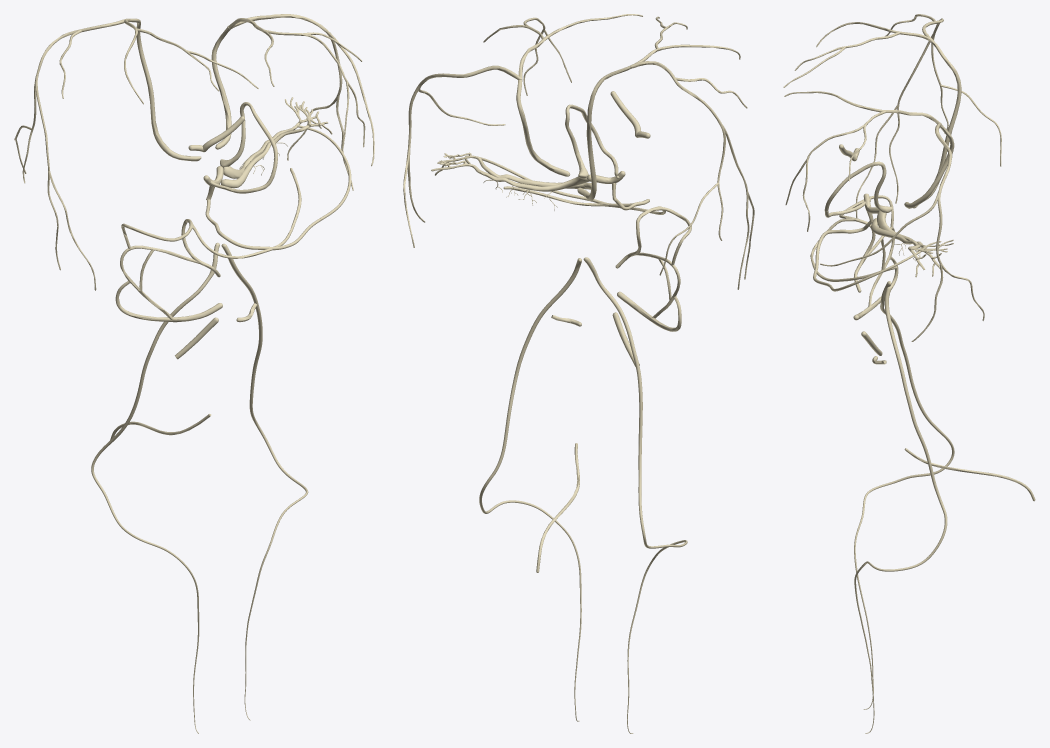
Rendered from bodyparts3d-arterial-abdominal.glb.
3 renders of one model, left to right at view 1: azimuth 30°, elevation 25°; view 2: azimuth 150°, elevation 25°; view 3: azimuth 270°, elevation 25°, orthographic. The views are drawn at different scales.
Parts seen in each view (by area): view 1: arterial-fma14746, arterial-fma14747, arterial-fma14759, arterial-fma14760, arterial-fma14773, arterial-fma14811, arterial-fma14810, arterial-fma14768, arterial-fma14781; view 2: arterial-fma14746, arterial-fma14747, arterial-fma14760, arterial-fma14759, arterial-fma14773, arterial-fma14810, arterial-fma14811, arterial-fma14768; view 3: arterial-fma14747, arterial-fma14746, arterial-fma14760, arterial-fma14759, arterial-fma14773, arterial-fma14810, arterial-fma14811, arterial-fma14768, arterial-fma14832, arterial-fma14781.
Part boxes in pixels (bbox=[...]): arterial-fma14746: bbox=[14, 18, 258, 290]; arterial-fma14747: bbox=[211, 14, 374, 190]; arterial-fma14759: bbox=[91, 242, 219, 733]; arterial-fma14760: bbox=[221, 243, 308, 720]; arterial-fma14773: bbox=[221, 97, 332, 188]; arterial-fma14811: bbox=[115, 245, 222, 322]; arterial-fma14810: bbox=[121, 168, 301, 277]; arterial-fma14768: bbox=[220, 102, 277, 175]; arterial-fma14781: bbox=[205, 199, 321, 250]; arterial-fma14746: bbox=[577, 16, 754, 289]; arterial-fma14747: bbox=[403, 14, 642, 247]; arterial-fma14760: bbox=[479, 258, 581, 721]; arterial-fma14759: bbox=[583, 257, 687, 733]; arterial-fma14773: bbox=[431, 152, 591, 210]; arterial-fma14810: bbox=[503, 186, 691, 268]; arterial-fma14811: bbox=[617, 252, 681, 331]; arterial-fma14768: bbox=[565, 104, 599, 178]; arterial-fma14747: bbox=[784, 91, 984, 341]; arterial-fma14746: bbox=[783, 14, 1001, 218]; arterial-fma14760: bbox=[854, 286, 947, 733]; arterial-fma14759: bbox=[854, 281, 954, 709]; arterial-fma14773: bbox=[871, 210, 953, 277]; arterial-fma14810: bbox=[810, 195, 897, 292]; arterial-fma14811: bbox=[853, 227, 898, 320]; arterial-fma14768: bbox=[824, 161, 892, 212]; arterial-fma14832: bbox=[904, 448, 1035, 501]; arterial-fma14781: bbox=[813, 221, 872, 287].
Size of the model in its own units: 0.236 by 0.501 by 0.1739.
